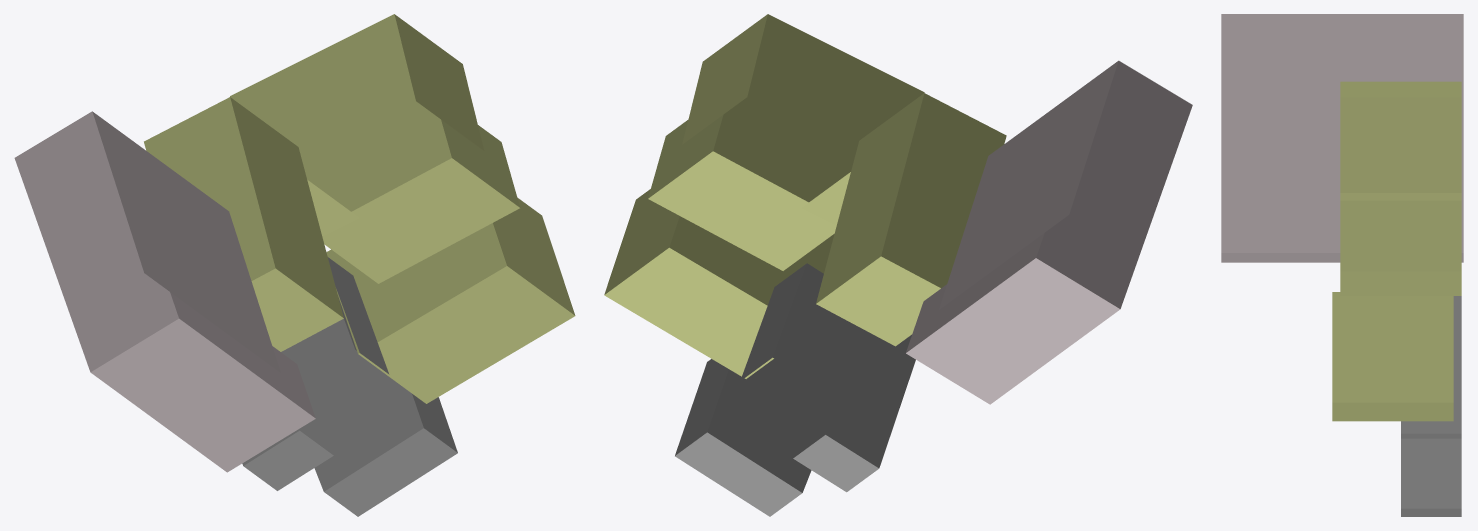
3 renders of one model, left to right at view 1: azimuth 30°, elevation 25°; view 2: azimuth 150°, elevation 25°; view 3: azimuth 270°, elevation 25°, orthographic. The views are drawn at different scales.
Parts seen in each view (by area): view 1: 0_1_0_2_1_3_2_0_0_0; view 2: 0_1_0_2_1_3_2_0_0_0; view 3: 0_1_0_2_1_3_2_0_0_0.
Part boxes in pixels (x1,y1,x2,y2): 0_1_0_2_1_3_2_0_0_0: (14, 14, 575, 516); 0_1_0_2_1_3_2_0_0_0: (604, 14, 1192, 516); 0_1_0_2_1_3_2_0_0_0: (1221, 14, 1463, 516).
Size of the model in its own units: 24.65 by 22.29 by 12.
